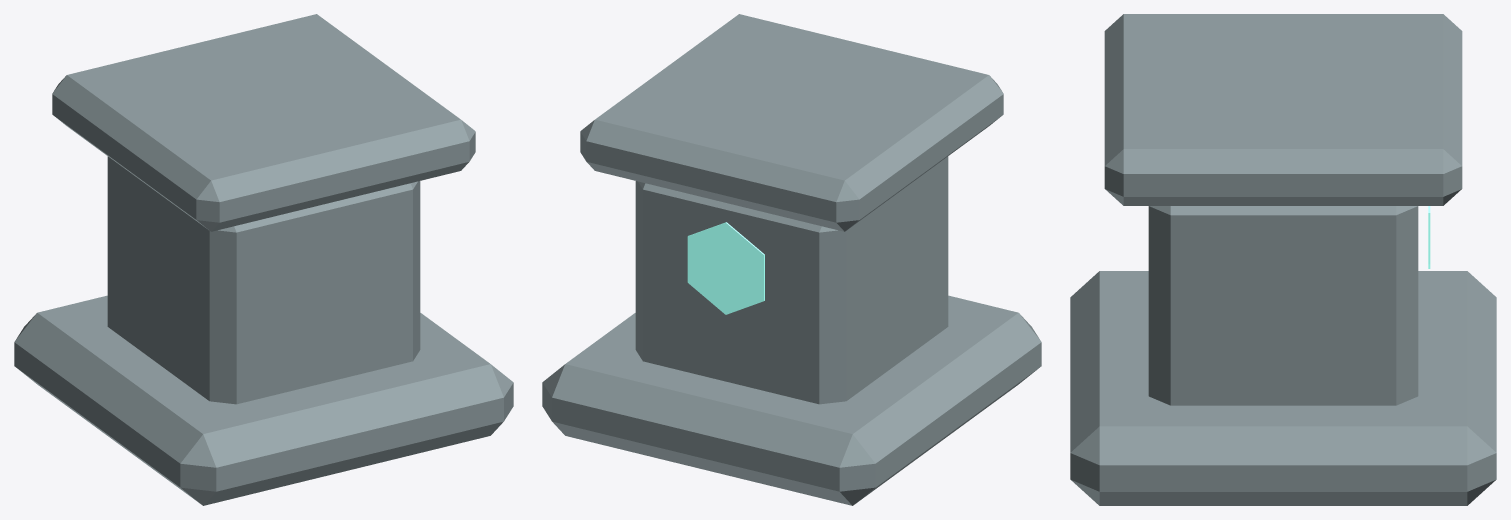
File: totem_dominio.glb
3 renders of one model, left to right at view 1: azimuth 30°, elevation 25°; view 2: azimuth 150°, elevation 25°; view 3: azimuth 270°, elevation 25°, orthographic. The views are drawn at different scales.
Parts seen in each view (by area): view 1: bosque_totem_dominio; view 2: bosque_totem_dominio; view 3: bosque_totem_dominio.
Boxes of the visible parts, <box> form: bosque_totem_dominio: <box>14,14,513,505</box>; bosque_totem_dominio: <box>542,14,1041,505</box>; bosque_totem_dominio: <box>1070,14,1496,505</box>.
Size of the model in its own units: 0.68 by 0.61 by 0.68.
